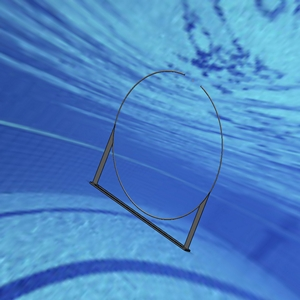circle: (87, 66, 224, 252)
